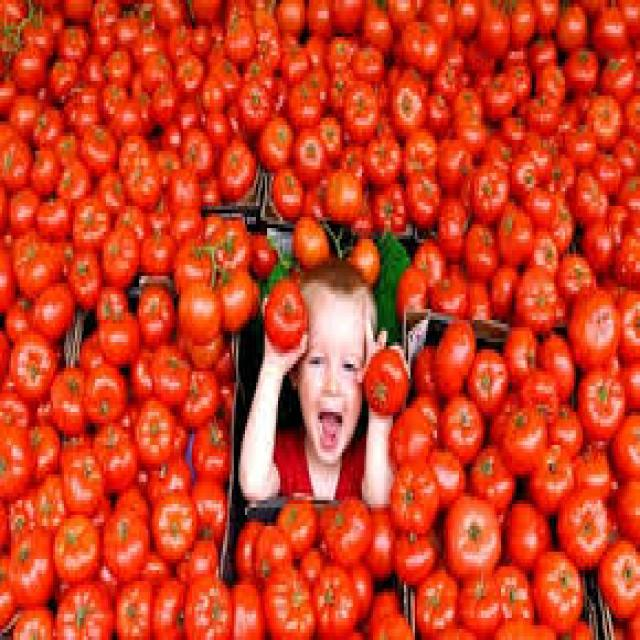Organik: (0, 0, 229, 640), (380, 0, 640, 306), (487, 294, 640, 639), (207, 0, 420, 210), (234, 501, 407, 640), (419, 543, 578, 640), (394, 413, 436, 572), (447, 490, 506, 569), (434, 380, 484, 462), (260, 286, 312, 350), (370, 349, 408, 421)
